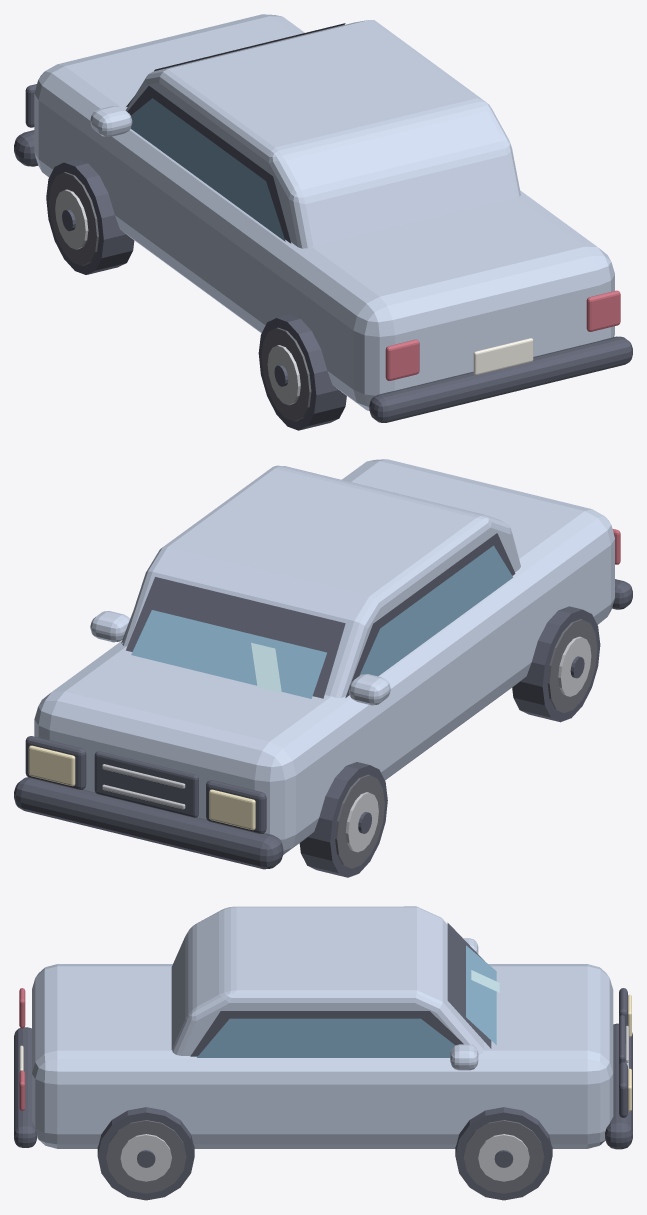
File: sedan.glb
3 renders of one model, top to bottom at view 1: azimuth 30°, elevation 25°; view 2: azimuth 150°, elevation 25°; view 3: azimuth 270°, elevation 25°, orthographic. The views are drawn at different scales.
Parts seen in each view (by area): view 1: Rounded_body, Shaped_passenger_cabin, Rear_bumper, Side_glass, Rubber_tire, Rubber_tire.002, Wheel_sidewall.002, Wheel_sidewall, Side_window_seal, License_plate, Silver_hub, Silver_hub.002 (+4 smaller); view 2: Rounded_body, Shaped_passenger_cabin, Front_bumper, Blue_windscreen, Dark_windscreen_seal, Side_glass, Grille, Rubber_tire, Rubber_tire.002, Wheel_sidewall, Wheel_sidewall.002, Side_window_seal (+9 smaller); view 3: Rounded_body, Shaped_passenger_cabin, Side_glass.001, Wheel_sidewall.001, Wheel_sidewall.003, Rubber_tire.001, Rubber_tire.003, Side_window_seal.001, Blue_windscreen, Rear_bumper, Dark_windscreen_seal, Silver_hub.001 (+4 smaller).
Part boxes in pixels (box(x1,y1,x2,y2)): Rounded_body: box(34, 14, 614, 410); Shaped_passenger_cabin: box(125, 20, 520, 248); Rear_bumper: box(369, 336, 632, 422); Side_glass: box(131, 98, 285, 241); Rubber_tire: box(46, 159, 134, 274); Rubber_tire.002: box(258, 314, 346, 430); Wheel_sidewall.002: box(261, 327, 311, 421); Wheel_sidewall: box(49, 172, 98, 265); Side_window_seal: box(127, 86, 291, 243); License_plate: box(473, 338, 533, 375); Silver_hub: box(55, 189, 88, 249); Silver_hub.002: box(267, 345, 300, 405); Rounded_body: box(34, 459, 614, 854); Shaped_passenger_cabin: box(122, 465, 520, 697); Front_bumper: box(14, 777, 283, 869); Blue_windscreen: box(131, 610, 326, 698); Dark_windscreen_seal: box(126, 577, 345, 698); Side_glass: box(359, 545, 512, 676); Grille: box(94, 751, 198, 817); Rubber_tire: box(299, 762, 387, 877); Rubber_tire.002: box(512, 606, 600, 722); Wheel_sidewall: box(335, 774, 384, 868); Wheel_sidewall.002: box(547, 619, 597, 712); Side_window_seal: box(345, 533, 515, 697); Rounded_body: box(32, 964, 613, 1148); Shaped_passenger_cabin: box(171, 906, 483, 1055); Side_glass.001: box(197, 1018, 454, 1057); Wheel_sidewall.001: box(463, 1120, 544, 1193); Wheel_sidewall.003: box(106, 1120, 186, 1193); Rubber_tire.001: box(455, 1107, 552, 1200); Rubber_tire.003: box(97, 1107, 194, 1200); Side_window_seal.001: box(190, 1011, 463, 1056); Blue_windscreen: box(466, 945, 496, 1044); Rear_bumper: box(14, 1027, 36, 1147); Dark_windscreen_seal: box(447, 922, 491, 1048); Silver_hub.001: box(478, 1134, 529, 1181).
Bounding box in the file's own units: 2.28 × 1.67 × 4.84.
